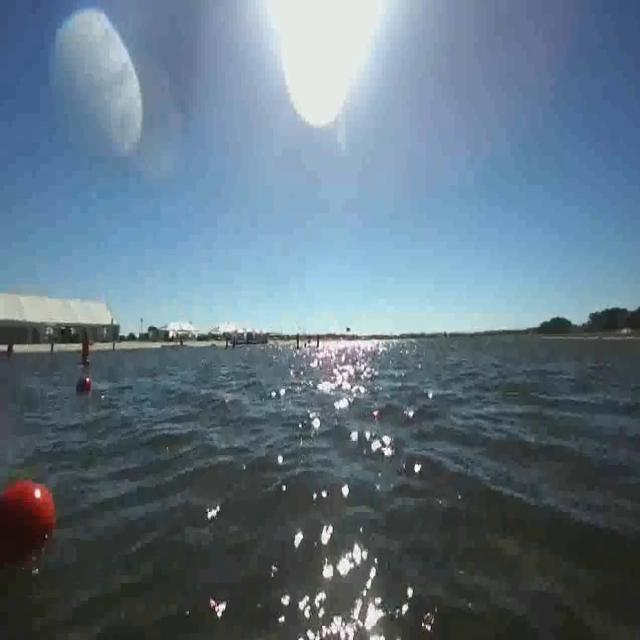red-buoy: (1, 482, 56, 554), (78, 378, 91, 395)
